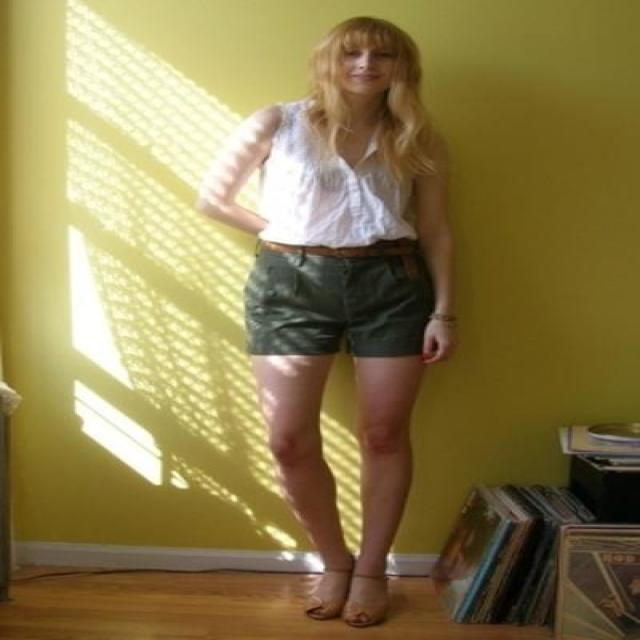shirt: (259, 90, 413, 248)
shoe: (306, 576, 372, 621)
shorts: (243, 258, 435, 359)
